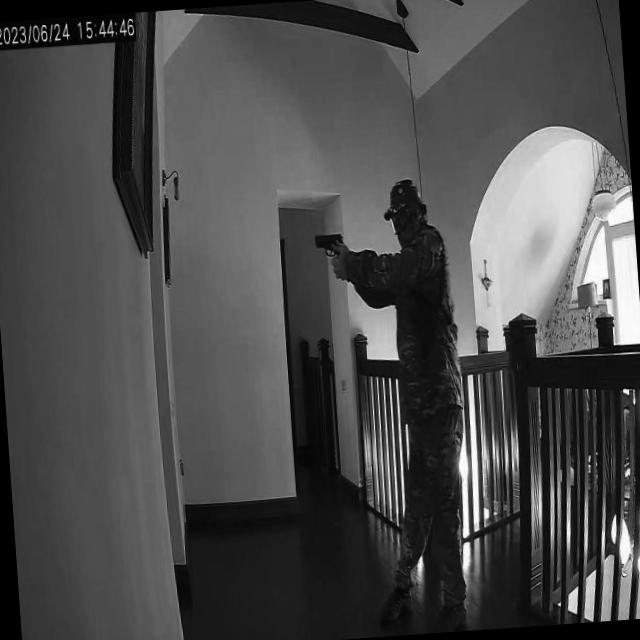gun: (313, 226, 346, 267)
person with a gun: (347, 176, 476, 634)
